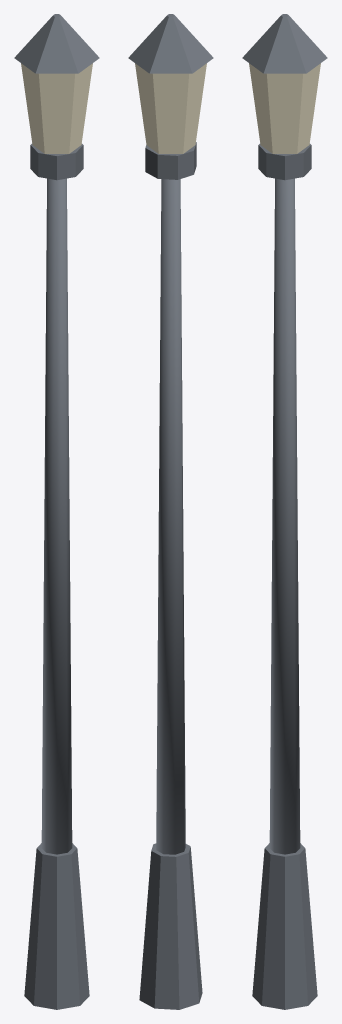
The model's file is streetlamp.glb.
3 views of the same model, side by side, from view 1: azimuth 90°, elevation 25°; view 2: azimuth 150°, elevation 25°; view 3: azimuth 270°, elevation 25° (orthographic).
Visible parts, largest first — view 1: streetlamp; view 2: streetlamp; view 3: streetlamp.
Part boxes in pixels (x1,y1,x2,y2): streetlamp: (14,14,99,1009); streetlamp: (128,14,213,1009); streetlamp: (242,14,327,1009).
Bounding box in the file's own units: 0.3637 × 5.3 × 0.42.
